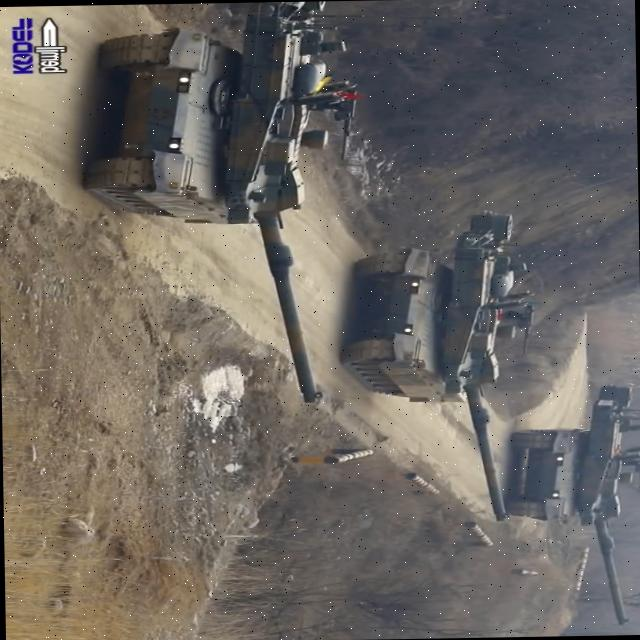korea tank: (339, 208, 540, 524)
